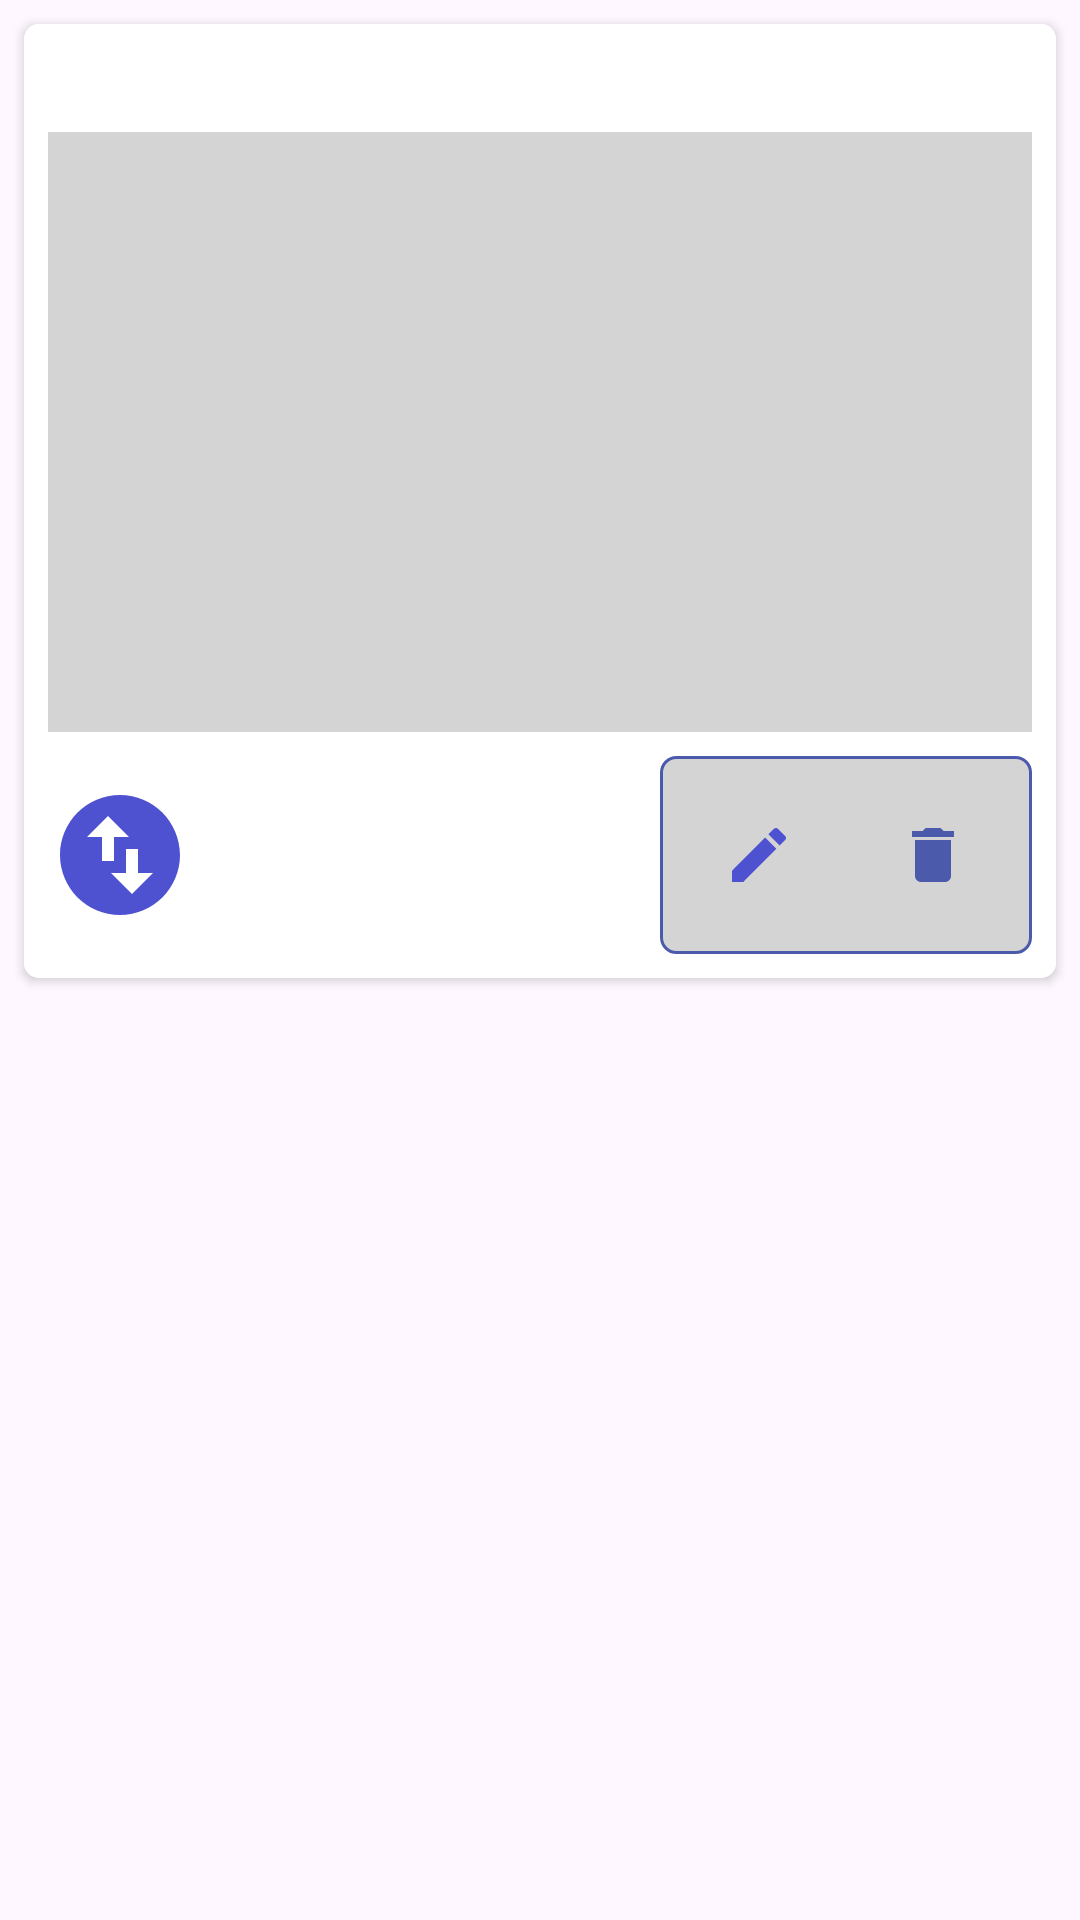

Icons on this 1080w x 1920h Android screen, each with its box as BBox(x1, y1, x2, y2):
Кнопка редактирования изображения: BBox(732, 828, 786, 882)
Передвижение изображения вверх/вниз: BBox(60, 795, 180, 915)
Удалить: BBox(912, 828, 954, 882)
